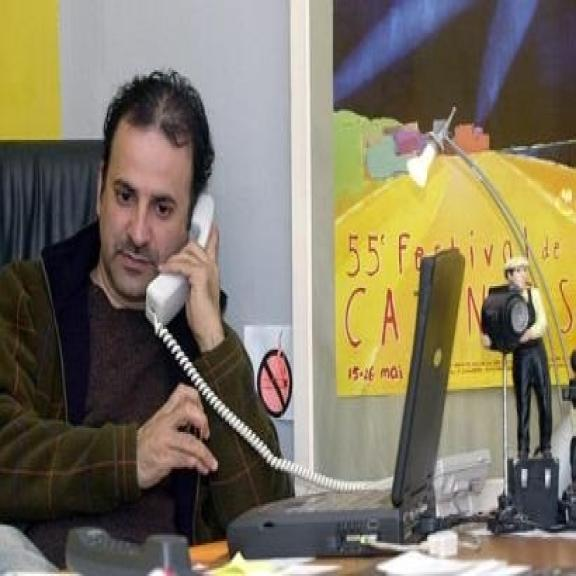face: (91, 80, 212, 304)
